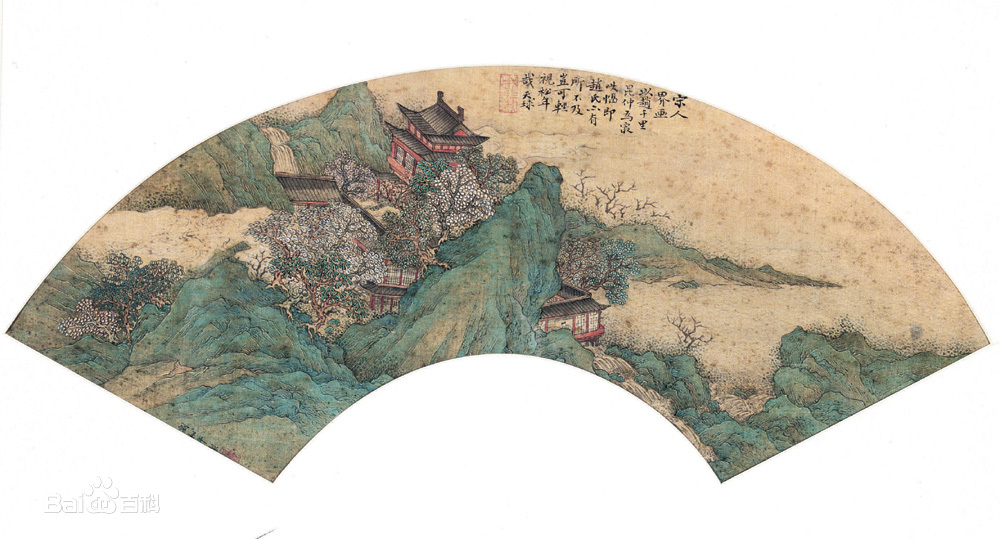creek: (91, 209, 270, 267)
hill: (393, 154, 574, 363), (185, 260, 318, 463)
house: (384, 93, 490, 184), (539, 280, 619, 346), (356, 231, 414, 313), (272, 170, 341, 212)
river: (680, 127, 903, 295), (612, 266, 945, 354)
tree: (268, 224, 344, 338), (559, 238, 636, 302), (430, 170, 494, 243), (80, 279, 139, 343), (391, 216, 451, 269), (329, 153, 377, 201), (670, 313, 709, 357), (126, 269, 170, 307), (601, 180, 636, 223)
waterfall: (261, 120, 302, 174)
